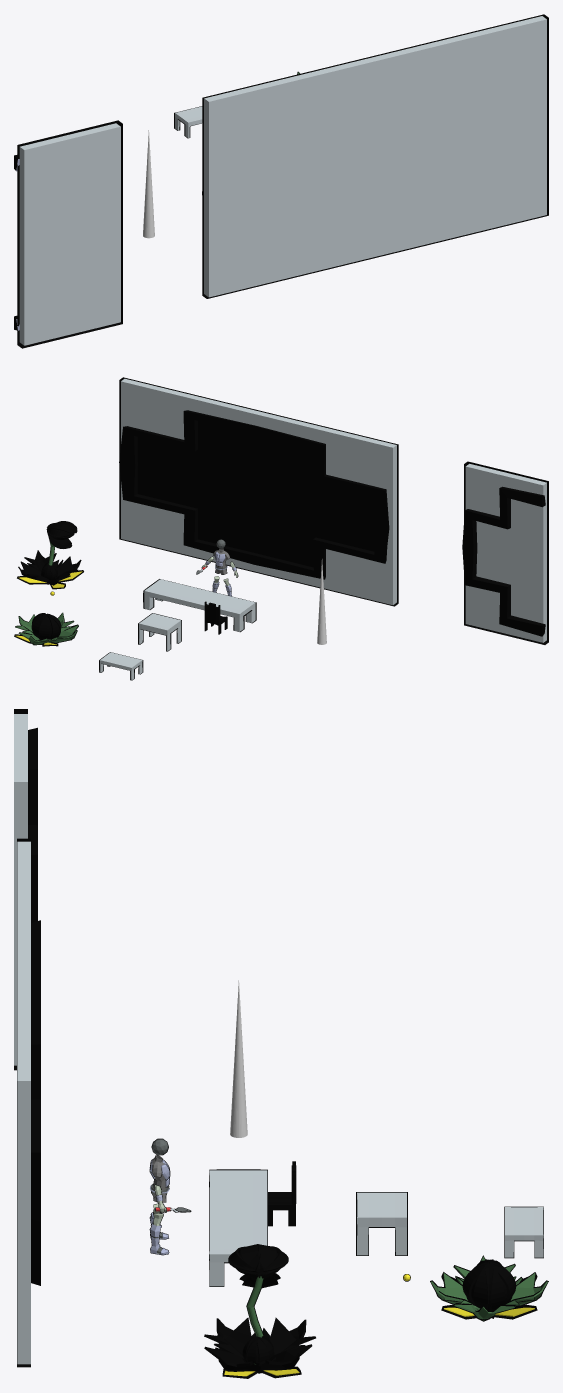
Rendered from Budding.fbx.
3 renders of one model, top to bottom at view 1: azimuth 30°, elevation 25°; view 2: azimuth 150°, elevation 25°; view 3: azimuth 270°, elevation 25°, orthographic. The views are drawn at different scales.
Parts seen in each view (by area): view 1: wall panel, door_half, thorn_base, table3; view 2: wall panel, door_half, table1, peashooter_base, peashooter_rotate, table2, bud_base, table3, bud_bud, chair, thorn_base; view 3: wall panel, table1, door_half, peashooter_base, peashooter_rotate, table2, bud_base, bud_bud, table3, thorn_base, chair.
Boxes of the visible parts, x1,y1,x2,y2 form: wall panel: (202,14,548,298); door_half: (14,120,122,348); thorn_base: (143,130,154,238); table3: (174,106,202,138); wall panel: (119,377,398,606); door_half: (462,461,548,644); table1: (143,579,256,632); peashooter_base: (18,550,81,585); peashooter_rotate: (17,521,83,589); table2: (138,613,181,651); bud_base: (15,612,78,645); table3: (99,652,143,680); bud_bud: (31,613,61,639); chair: (204,601,227,634); thorn_base: (317,559,326,644); wall panel: (17,838,40,1367); table1: (209,1169,267,1286); door_half: (14,709,37,1070); peashooter_base: (204,1317,315,1373); peashooter_rotate: (217,1244,301,1378); table2: (356,1192,407,1255); bud_base: (430,1255,548,1321); bud_bud: (462,1259,516,1310); table3: (504,1206,543,1258); thorn_base: (230,980,247,1137); chair: (268,1161,296,1226).
Size of the model in its own units: 1528 by 514 by 855.
